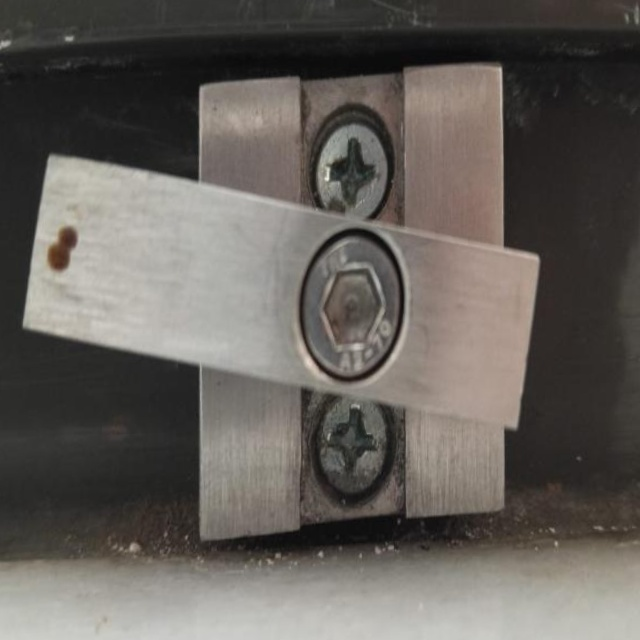allen: (297, 230, 409, 387)
phillips: (313, 119, 395, 224), (312, 392, 392, 498)
